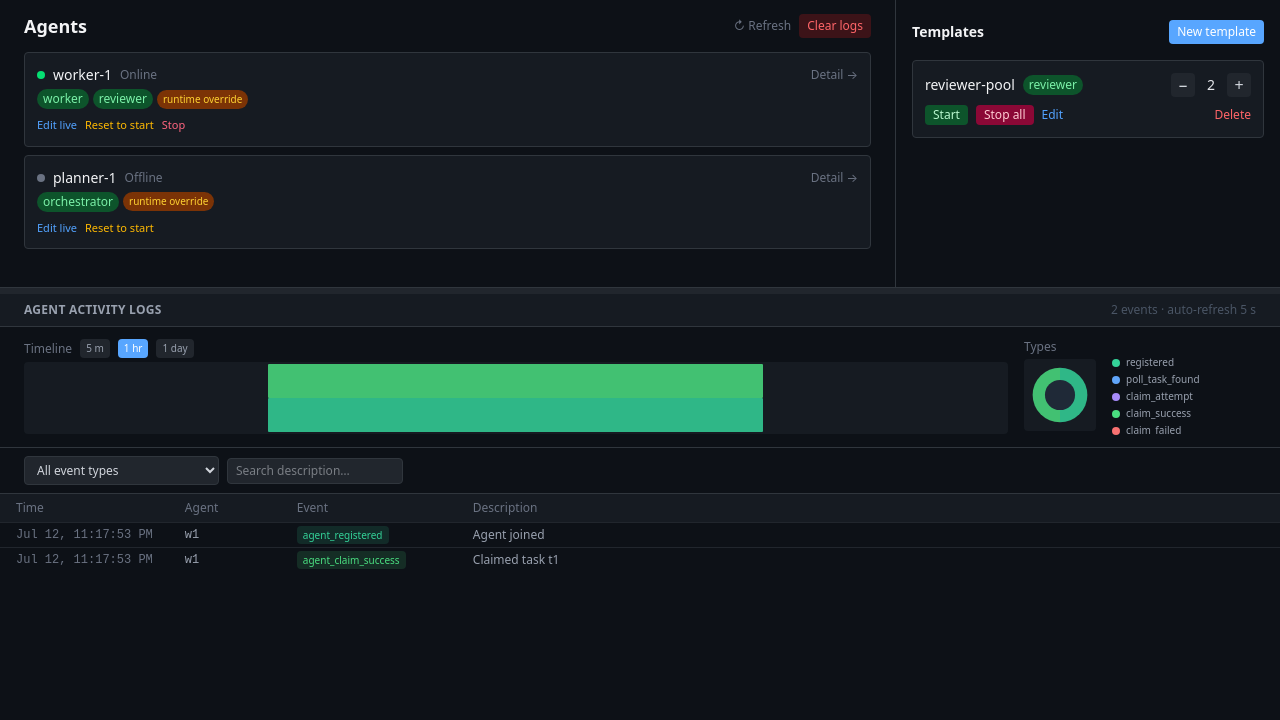
Agents — templates panel › opens an edit form pre-filled with current values when Edit is clicked
The width and height of the screenshot is (1280, 720).
Check: the text "reviewer-pool" is shown, box [925,75,1015,95]
What coordinates should you click on to do the following:
click the button "Edit"
I would click on:
 (1052, 115)
Its box is [1042,107,1063,123].
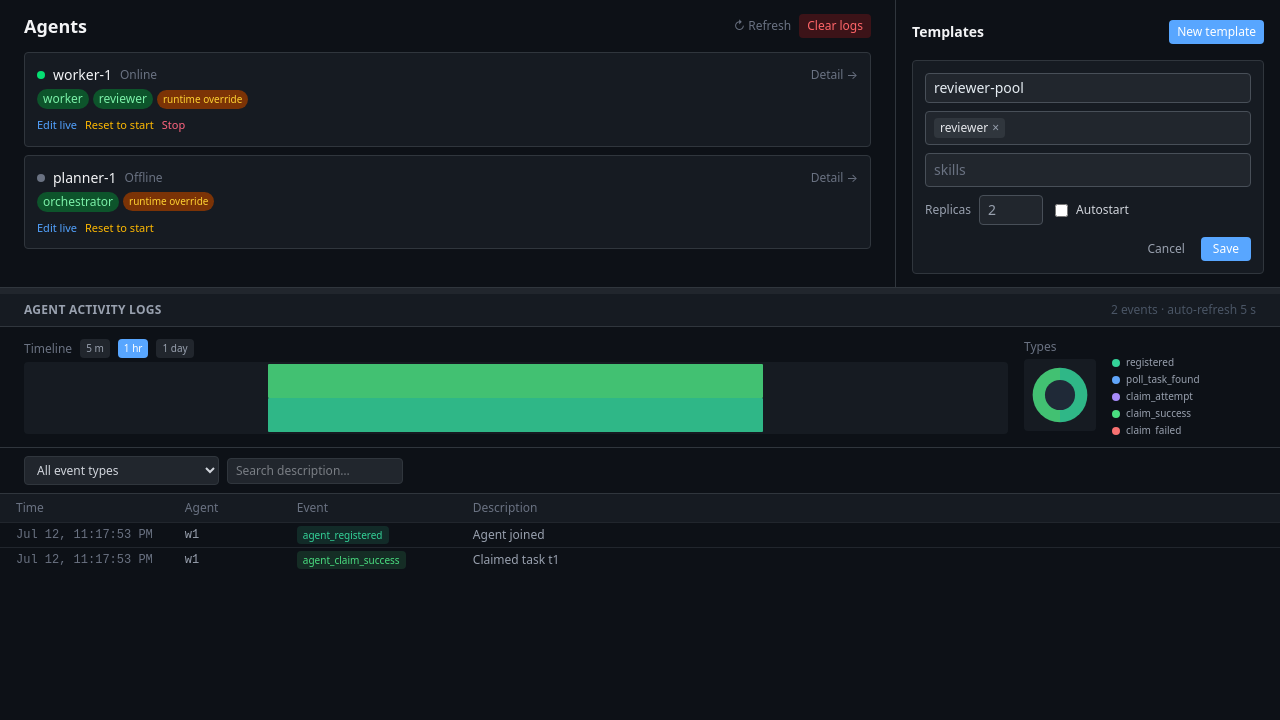
Check: the 1st field showing "reviewer-pool" is shown, box [925,73,1251,103]
Check: the button named "Remove reviewer" is shown, box [992,122,999,134]
